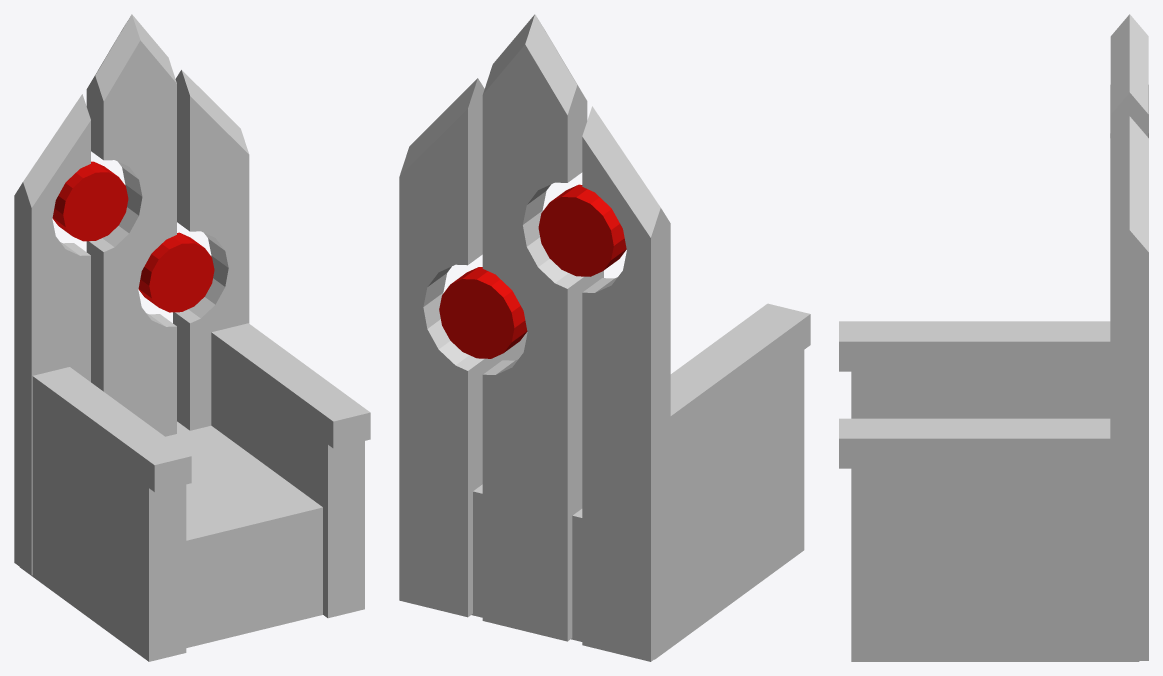
File: chairs.fbx
3 renders of one model, left to right at view 1: azimuth 30°, elevation 25°; view 2: azimuth 150°, elevation 25°; view 3: azimuth 270°, elevation 25°, orthographic. The views are drawn at different scales.
Visible parts, largest first — view 1: Cube; view 2: Cube; view 3: Cube.
Boxes of the visible parts, x1,y1,x2,y2 form: Cube: [14, 14, 370, 661]; Cube: [399, 14, 810, 661]; Cube: [839, 14, 1148, 661].
Size of the model in its own units: 202 by 469 by 223.
